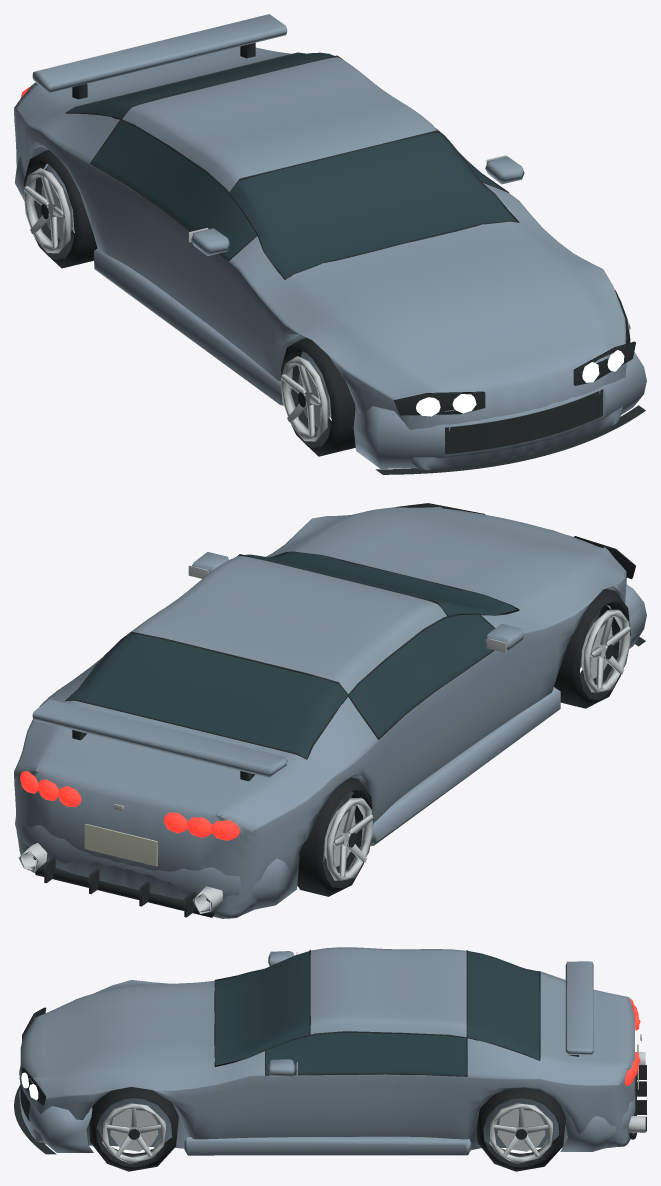
Rendered from arqessa-darell.glb.
The picture shows the model from 3 angles, top to bottom: view 1: azimuth 30°, elevation 25°; view 2: azimuth 150°, elevation 25°; view 3: azimuth 270°, elevation 25°; orthographic projection. The views are drawn at different scales.
Parts seen in each view (by area): view 1: cofano, scocca, cristallo_ant, tetto, porta_sx, cristallo_sx, paraurti_ant, spoiler, minigonna_sx, portellone, griglia, ruota_ant_sx_gomma (+15 smaller); view 2: scocca, tetto, cristallo_post, cofano, portellone, porta_sx, cristallo_sx, spoiler, minigonna_sx, paraurti_post, cristallo_ant, ruota_post_sx_gomma (+12 smaller); view 3: scocca, cofano, porta_dx, tetto, cristallo_ant, cristallo_dx, cristallo_post, portellone, minigonna_dx, spoiler, ruota_ant_dx_gomma, ruota_post_dx_gomma (+13 smaller).
Part boxes in pixels (bbox=[...]): cofano: bbox=[285, 221, 607, 383]; scocca: bbox=[14, 89, 626, 470]; cristallo_ant: bbox=[230, 132, 516, 278]; tetto: bbox=[122, 57, 438, 191]; porta_sx: bbox=[90, 164, 244, 352]; cristallo_sx: bbox=[92, 120, 256, 259]; paraurti_ant: bbox=[353, 352, 646, 468]; spoiler: bbox=[32, 14, 287, 92]; minigonna_sx: bbox=[94, 248, 283, 405]; portellone: bbox=[29, 46, 291, 112]; griglia: bbox=[445, 389, 602, 454]; ruota_ant_sx_gomma: bbox=[281, 338, 355, 456]; scocca: bbox=[14, 507, 626, 918]; tetto: bbox=[132, 555, 446, 694]; cristallo_post: bbox=[67, 633, 347, 759]; cofano: bbox=[288, 507, 607, 610]; portellone: bbox=[29, 700, 306, 819]; porta_sx: bbox=[373, 643, 519, 822]; cristallo_sx: bbox=[349, 615, 494, 737]; spoiler: bbox=[32, 699, 287, 777]; minigonna_sx: bbox=[370, 687, 560, 846]; paraurti_post: bbox=[15, 815, 299, 909]; cristallo_ant: bbox=[245, 552, 516, 615]; ruota_post_sx_gomma: bbox=[297, 777, 373, 896]; scocca: bbox=[20, 971, 634, 1149]; cofano: bbox=[43, 981, 214, 1081]; porta_dx: bbox=[250, 1074, 467, 1139]; tetto: bbox=[310, 947, 466, 1037]; cristallo_ant: bbox=[215, 951, 309, 1065]; cristallo_dx: bbox=[266, 1032, 466, 1075]; cristallo_post: bbox=[467, 951, 539, 1060]; portellone: bbox=[540, 972, 634, 1070]; minigonna_dx: bbox=[184, 1136, 471, 1155]; spoiler: bbox=[565, 961, 593, 1055]; ruota_ant_dx_gomma: bbox=[89, 1087, 178, 1171]; ruota_post_dx_gomma: bbox=[476, 1087, 565, 1171].
Bounding box in the file's own units: 2.09 × 1.13 × 4.78.
